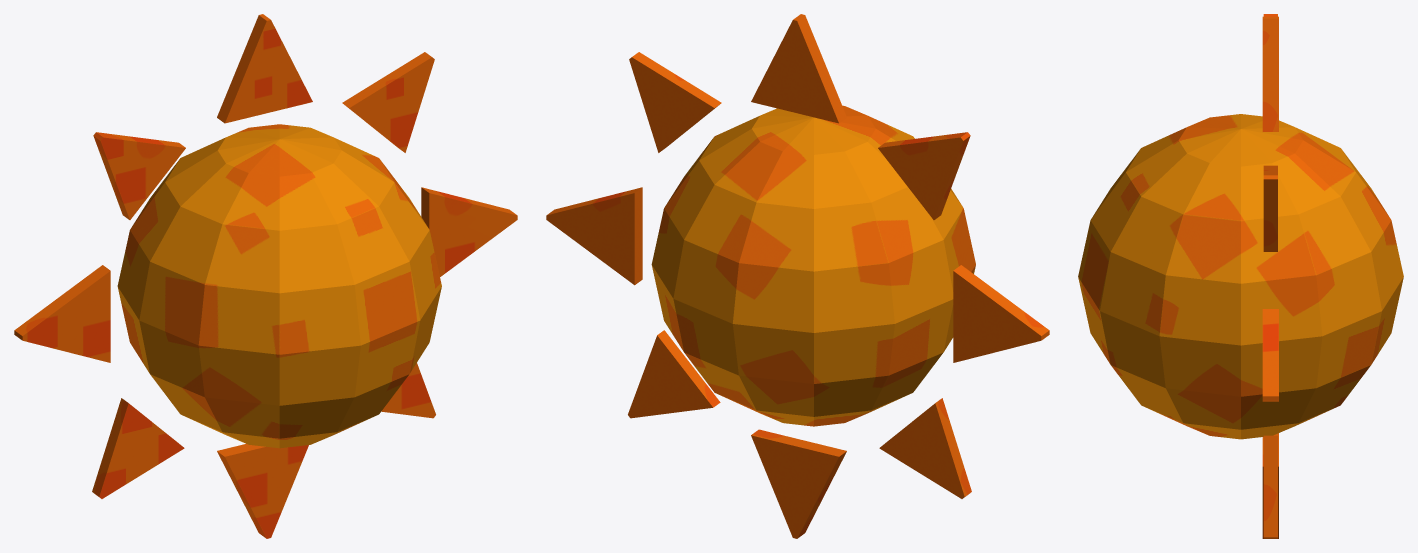
The model's file is Sun.fbx.
3 views of the same model, side by side, from view 1: azimuth 30°, elevation 25°; view 2: azimuth 150°, elevation 25°; view 3: azimuth 270°, elevation 25° (orthographic).
Visible parts, largest first — view 1: polySurface26, polySurface30; view 2: polySurface26, polySurface30; view 3: polySurface26, polySurface30.
Boxes of the visible parts, x1,y1,x2,y2 form: polySurface26: (117, 124, 441, 448); polySurface30: (14, 14, 517, 538); polySurface26: (651, 105, 975, 426); polySurface30: (546, 14, 1049, 538); polySurface26: (1078, 114, 1403, 439); polySurface30: (1262, 14, 1278, 538).
Size of the model in its own units: 0.0474 by 0.0474 by 0.0269.
Materials: 2 (2 with a texture image).
